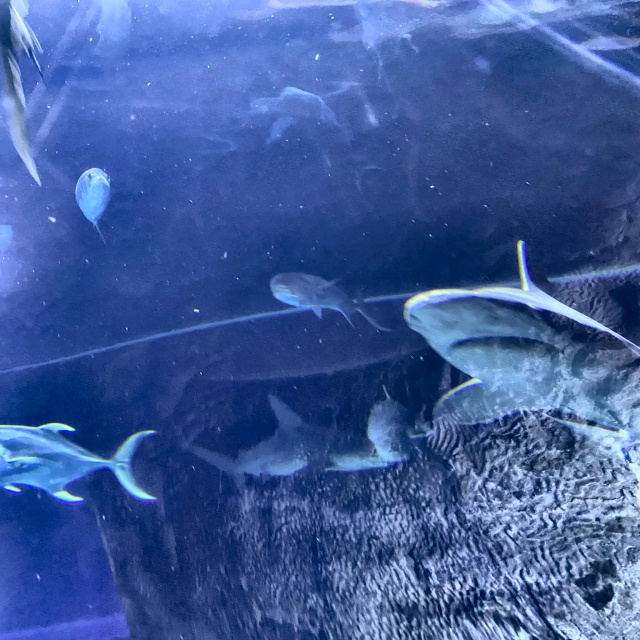fish: (0, 421, 156, 501), (272, 270, 385, 328), (368, 388, 415, 462), (75, 167, 109, 227)
shark: (407, 240, 639, 431), (184, 394, 389, 480)
